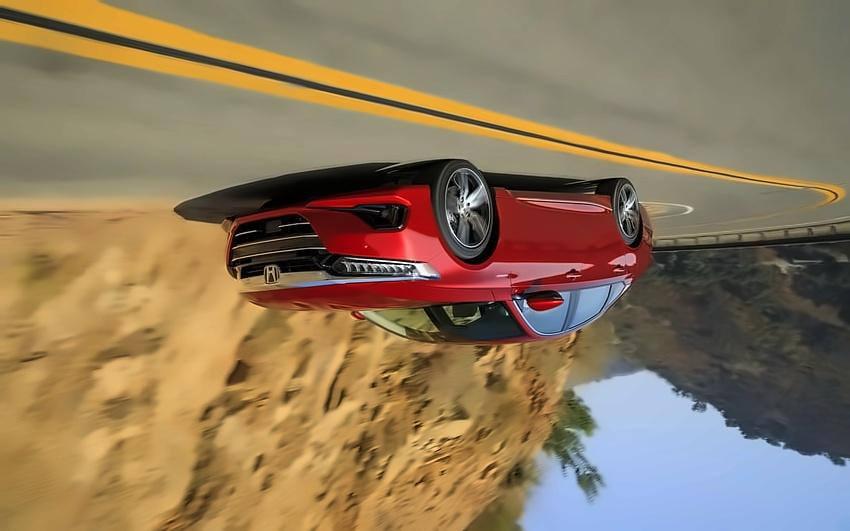Car hood: (238, 281, 495, 316)
Fender - -F-L-: (427, 189, 514, 307)
Fender - -R-L-: (624, 236, 650, 278)
Front bumper: (219, 181, 450, 255)
Headlight - -R-: (321, 250, 442, 284)
Passenger-s door - -F-L-: (513, 196, 582, 340)
Passenger-s door - -R-L-: (582, 199, 628, 332)
Rear bumper: (637, 199, 661, 239)
Side bumper - -R-: (488, 181, 618, 214)
Side mirror - -R-: (509, 287, 572, 312)
